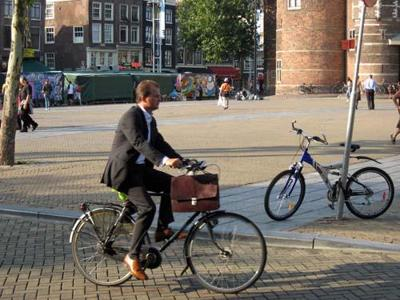person: (102, 82, 206, 284)
